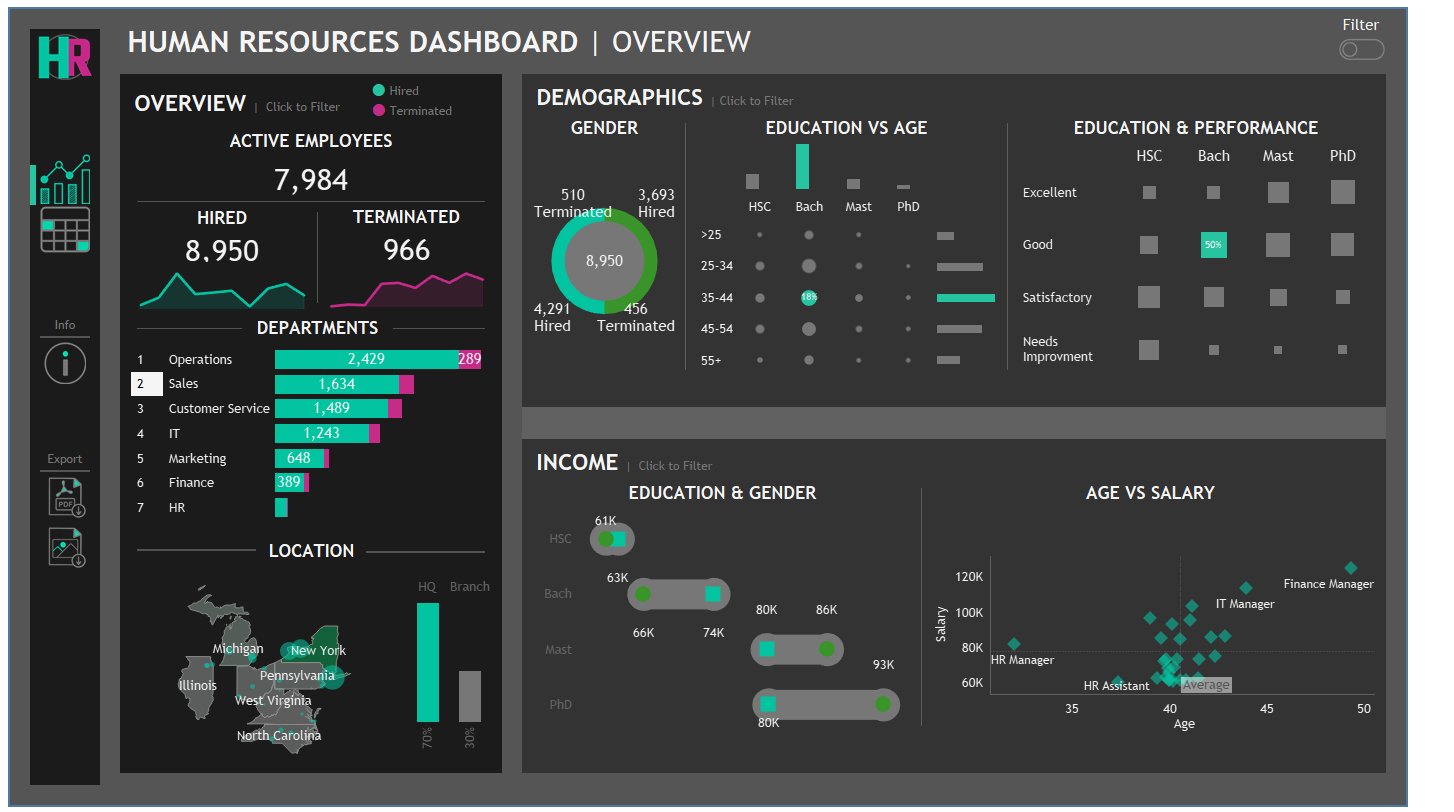

The dashboard page shown, as its layout file describes it:
{"tool":"tableau","page":{"name":"HR|Summary","canvas":[1400,800],"ordinal":1},"visuals":[{"type":"blank","box":[92,0,1305,253]},{"type":"text","box":[112,2,674,65]},{"type":"blank","box":[786,2,592,65]},{"type":"filter","title":"Gender vs Education Level","param":"[federated.0kjozka03vnpd51219ix80a1y5aw].[none:Gender:nk]","box":[777,6,133,57]},{"type":"filter","title":"Gender vs Education Level","param":"[federated.0kjozka03vnpd51219ix80a1y5aw].[none:Calculation_339458830337392645:nk","box":[910,6,132,57]},{"type":"filter","title":"Gender vs Education Level","param":"[federated.0kjozka03vnpd51219ix80a1y5aw].[none:Calculation_1658732046278422529:n","box":[1042,6,132,57]},{"type":"filter","title":"Gender vs Education Level","param":"[federated.0kjozka03vnpd51219ix80a1y5aw].[yr:Hiredate:ok]","box":[1174,6,132,57]},{"type":"text","box":[1323,6,60,23]},{"type":"image","param":"Image/Logo.png","box":[22,22,70,55]},{"type":"dashboard-object","box":[1330,27,47,31]},{"type":"text","box":[361,69,131,49]},{"type":"text","box":[119,74,368,44]},{"type":"text","box":[521,74,850,32]},{"type":"blank","box":[22,77,70,60]},{"type":"text","box":[521,106,151,29]},{"type":"blank","box":[677,106,1,267]},{"type":"text","box":[683,106,311,29]},{"type":"blank","box":[999,106,1,267]},{"type":"text","box":[1005,106,366,29]},{"type":"text","box":[119,118,368,32]},{"type":"worksheet","title":"Gender","mark":"Pie","cols":["Calculation_339458830342148103","Calculation_339458830342148103"],"box":[521,135,151,238]},{"type":"worksheet","title":"Education Levels","mark":"Bar","rows":["Calculation_339458830329905152"],"cols":["Education Level"],"box":[683,135,311,49]},{"type":"worksheet","title":"Education vs Performance","mark":"Square","rows":["Performance Rating"],"cols":["Education Level"],"box":[1005,135,366,238]},{"type":"dashboard-object","box":[32,147,50,50]},{"type":"worksheet","title":"BAN ACTIVE","mark":"Text","box":[119,150,368,44]},{"type":"blank","box":[22,158,6,40]},{"type":"worksheet","title":"Age Vs Education","mark":"Circle","rows":["Calculation_1658732046234120192"],"cols":["Education Level"],"box":[683,184,246,189]},{"type":"worksheet","title":"Age Groups","mark":"Bar","rows":["Calculation_1658732046234120192"],"cols":["Calculation_339458830329905152"],"box":[929,184,65,189]},{"type":"blank","box":[119,194,368,1]},{"type":"text","box":[119,195,190,32]},{"type":"blank","box":[309,195,1,111]},{"type":"text","box":[310,195,177,29]},{"type":"dashboard-object","box":[32,197,50,50]},{"type":"worksheet","title":"BAN TERMINATE","mark":"Text","box":[310,224,177,35]},{"type":"worksheet","title":"BAN HIRED","mark":"Text","box":[119,227,190,32]},{"type":"blank","box":[32,247,50,60]},{"type":"text","box":[92,253,1305,162]},{"type":"worksheet","title":"Hired By Year","mark":"Line","rows":["Calculation_339458830329905152","Calculation_339458830329905152"],"cols":["Hiredate"],"box":[119,259,190,47]},{"type":"worksheet","title":"Terminate By Year","mark":"Line","rows":["Calculation_339458830330097665","Calculation_339458830330097665"],"cols":["Termdate"],"box":[310,259,177,47]},{"type":"blank","box":[129,306,105,30]},{"type":"text","box":[234,306,151,30]},{"type":"blank","box":[385,306,92,30]},{"type":"text","box":[32,307,50,22]},{"type":"blank","box":[32,329,50,2]},{"type":"dashboard-object","box":[32,331,50,50]},{"type":"worksheet","title":"Departments","mark":"Bar","rows":["Calculation_339458830336348164","Department"],"cols":["Calculation_339458830329905152"],"box":[119,336,368,181]},{"type":"blank","box":[32,381,50,60]},{"type":"blank","box":[514,400,864,32]},{"type":"blank","box":[92,415,1305,385]},{"type":"text","box":[521,439,850,32]},{"type":"text","box":[32,441,50,22]},{"type":"blank","box":[32,463,50,2]},{"type":"dashboard-object","box":[32,465,50,50]},{"type":"text","box":[521,471,387,29]},{"type":"blank","box":[913,471,1,258]},{"type":"text","box":[914,471,457,29]},{"type":"worksheet","title":"Gender vs Education Level","mark":"Square","rows":["Education Level"],"cols":["Salary","Salary"],"box":[521,500,387,229]},{"type":"worksheet","title":"Age Vs Salary","mark":"Automatic","rows":["Salary"],"cols":["Calculation_339458830344646664"],"box":[914,500,457,229]},{"type":"dashboard-object","box":[32,515,50,50]},{"type":"blank","box":[129,522,118.7,44]},{"type":"text","box":[247.7,522,110.7,44]},{"type":"blank","box":[358.3,522,118.7,44]},{"type":"worksheet","title":"Map States","mark":"Multipolygon","box":[119,566,275,193]},{"type":"worksheet","title":"Location","mark":"Bar","rows":["Calculation_339458830329905152"],"cols":["Calculation_339458830337392645","Calculation1"],"box":[394,566,93,193]},{"type":"blank","box":[112,766,1266,32]}]}

Visuals, with their boxes in screenshot pixels (x1, y1, x2, y2), scaled from the page's 1400x800 canvas onto the 1454x812 screenshot:
blank: <box>96,0,1451,257</box>
text: <box>116,2,816,68</box>
blank: <box>816,2,1431,68</box>
"Gender vs Education Level" filter: <box>807,6,945,64</box>
"Gender vs Education Level" filter: <box>945,6,1082,64</box>
"Gender vs Education Level" filter: <box>1082,6,1219,64</box>
"Gender vs Education Level" filter: <box>1219,6,1356,64</box>
text: <box>1374,6,1436,29</box>
image: <box>23,22,96,78</box>
dashboard-object: <box>1381,27,1430,59</box>
text: <box>375,70,511,120</box>
text: <box>124,75,506,120</box>
text: <box>541,75,1424,108</box>
blank: <box>23,78,96,139</box>
text: <box>541,108,698,137</box>
blank: <box>703,108,704,379</box>
text: <box>709,108,1032,137</box>
blank: <box>1038,108,1039,379</box>
text: <box>1044,108,1424,137</box>
text: <box>124,120,506,152</box>
"Gender" worksheet (Pie marks): <box>541,137,698,379</box>
"Education Levels" worksheet (Bar marks): <box>709,137,1032,187</box>
"Education vs Performance" worksheet (Square marks): <box>1044,137,1424,379</box>
dashboard-object: <box>33,149,85,200</box>
"BAN ACTIVE" worksheet (Text marks): <box>124,152,506,197</box>
blank: <box>23,160,29,201</box>
"Age Vs Education" worksheet (Circle marks): <box>709,187,965,379</box>
"Age Groups" worksheet (Bar marks): <box>965,187,1032,379</box>
blank: <box>124,197,506,198</box>
text: <box>124,198,321,230</box>
blank: <box>321,198,322,311</box>
text: <box>322,198,506,227</box>
dashboard-object: <box>33,200,85,251</box>
"BAN TERMINATE" worksheet (Text marks): <box>322,227,506,263</box>
"BAN HIRED" worksheet (Text marks): <box>124,230,321,263</box>
blank: <box>33,251,85,312</box>
text: <box>96,257,1451,421</box>
"Hired By Year" worksheet (Line marks): <box>124,263,321,311</box>
"Terminate By Year" worksheet (Line marks): <box>322,263,506,311</box>
blank: <box>134,311,243,341</box>
text: <box>243,311,400,341</box>
blank: <box>400,311,495,341</box>
text: <box>33,312,85,334</box>
blank: <box>33,334,85,336</box>
dashboard-object: <box>33,336,85,387</box>
"Departments" worksheet (Bar marks): <box>124,341,506,525</box>
blank: <box>33,387,85,448</box>
blank: <box>534,406,1431,438</box>
blank: <box>96,421,1451,811</box>
text: <box>541,446,1424,478</box>
text: <box>33,448,85,470</box>
blank: <box>33,470,85,472</box>
dashboard-object: <box>33,472,85,523</box>
text: <box>541,478,943,507</box>
blank: <box>948,478,949,740</box>
text: <box>949,478,1424,507</box>
"Gender vs Education Level" worksheet (Square marks): <box>541,507,943,740</box>
"Age Vs Salary" worksheet: <box>949,507,1424,740</box>
dashboard-object: <box>33,523,85,573</box>
blank: <box>134,530,257,574</box>
text: <box>257,530,372,574</box>
blank: <box>372,530,495,574</box>
"Map States" worksheet (Multipolygon marks): <box>124,574,409,770</box>
"Location" worksheet (Bar marks): <box>409,574,506,770</box>
blank: <box>116,777,1431,810</box>
